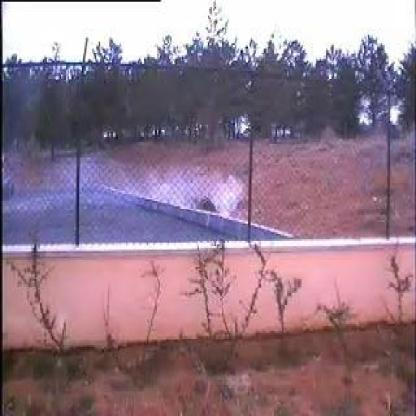-: (33, 145, 245, 238)
